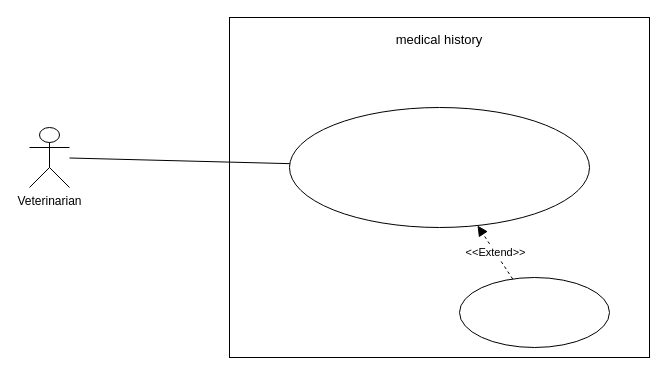
The diagram is 667 pixels wide and 375 high, and some of its shapes have lost their labels. Each missing label, with the centre of its shape:
"Export clinical report" belongs at (534,312).
"Review medical history extension points Export clinical report" belongs at (439,167).
